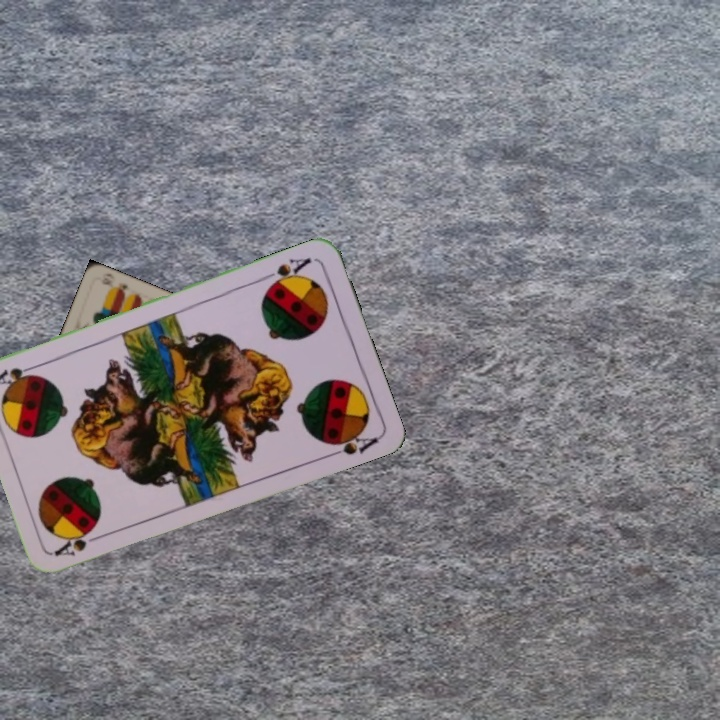SA: (50, 521, 107, 559), (259, 253, 314, 291)
